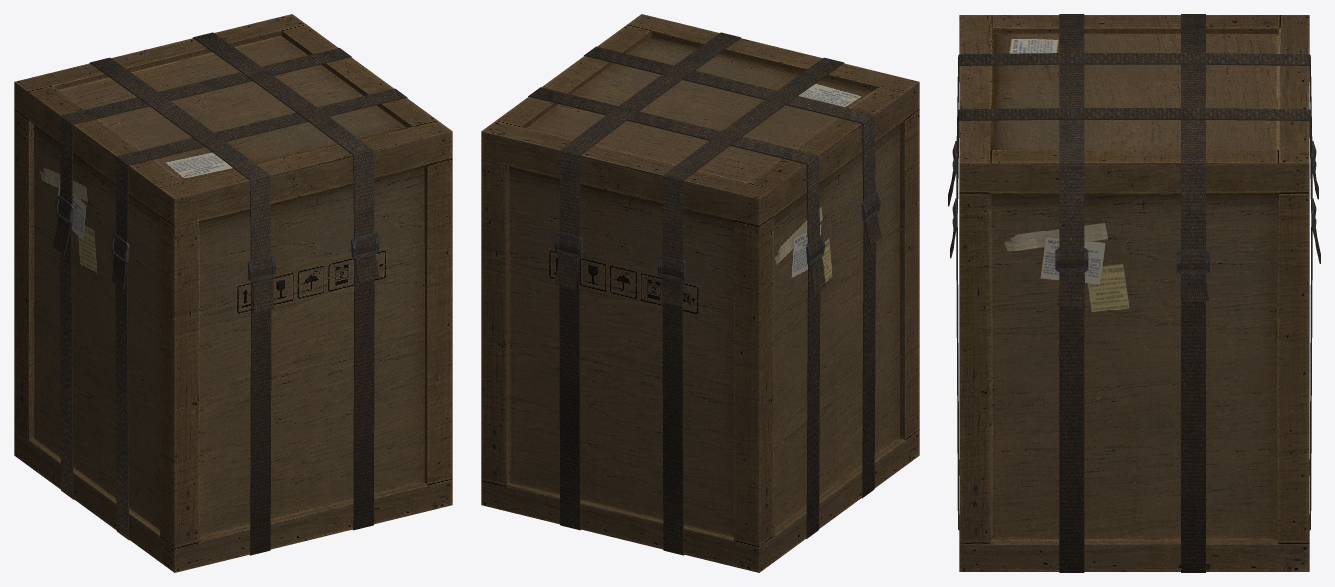
File: wooden_crate_hx_3_1.glb
3 views of the same model, side by side, from view 1: azimuth 30°, elevation 25°; view 2: azimuth 150°, elevation 25°; view 3: azimuth 270°, elevation 25° (orthographic). The views are drawn at different scales.
Parts seen in each view (by area): view 1: wooden_crate_hx_3_1; view 2: wooden_crate_hx_3_1; view 3: wooden_crate_hx_3_1.
Part boxes in pixels (x1,y1,x2,y2): wooden_crate_hx_3_1: [14, 14, 452, 572]; wooden_crate_hx_3_1: [481, 14, 919, 572]; wooden_crate_hx_3_1: [948, 14, 1320, 572].
Bounding box in the file's own units: 1.49 × 1.82 × 1.49.
3 materials, 3 textured.
